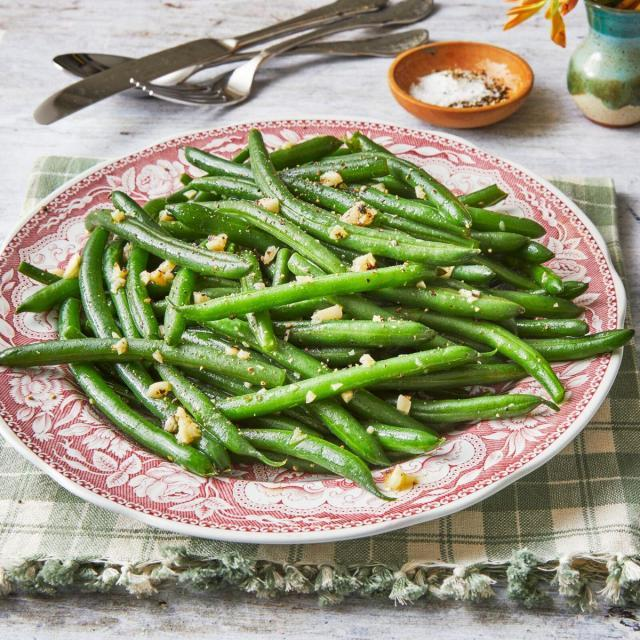Beans: (23, 137, 632, 493)
